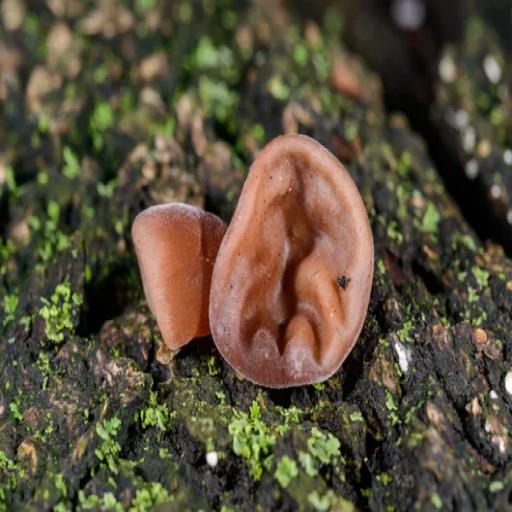Wood Ear Mushroom: (206, 131, 373, 389), (128, 192, 226, 372)
